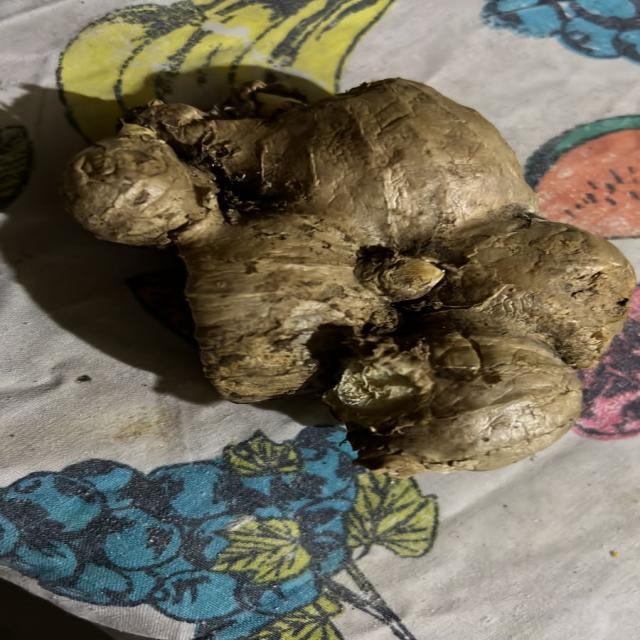ginger: (78, 96, 619, 468)
